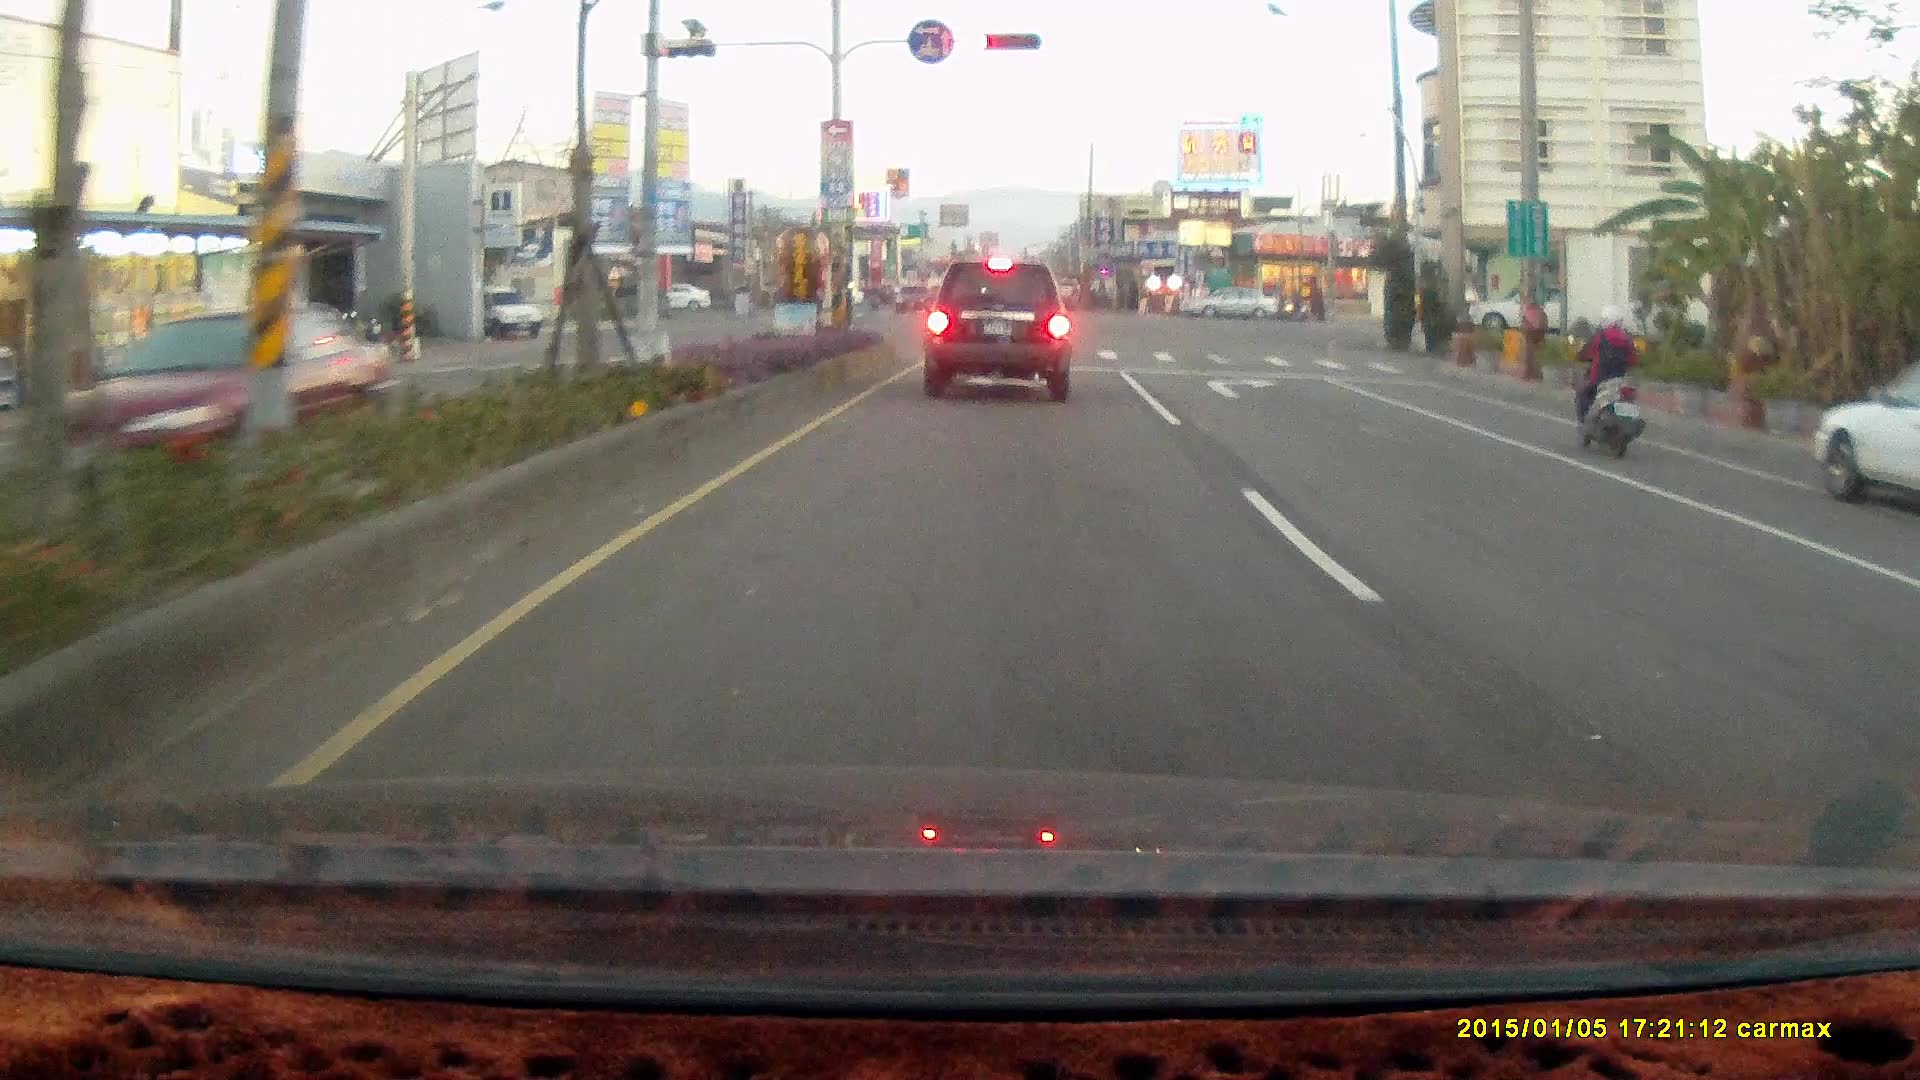rider: (1563, 302, 1645, 458), (1279, 285, 1311, 322)
vehicle: (922, 259, 1071, 402), (1811, 356, 1920, 516), (1811, 355, 1919, 515), (1896, 493, 1920, 836), (1465, 279, 1587, 337), (1883, 528, 1920, 690), (471, 286, 545, 342), (1178, 285, 1281, 322), (1177, 286, 1279, 319)
